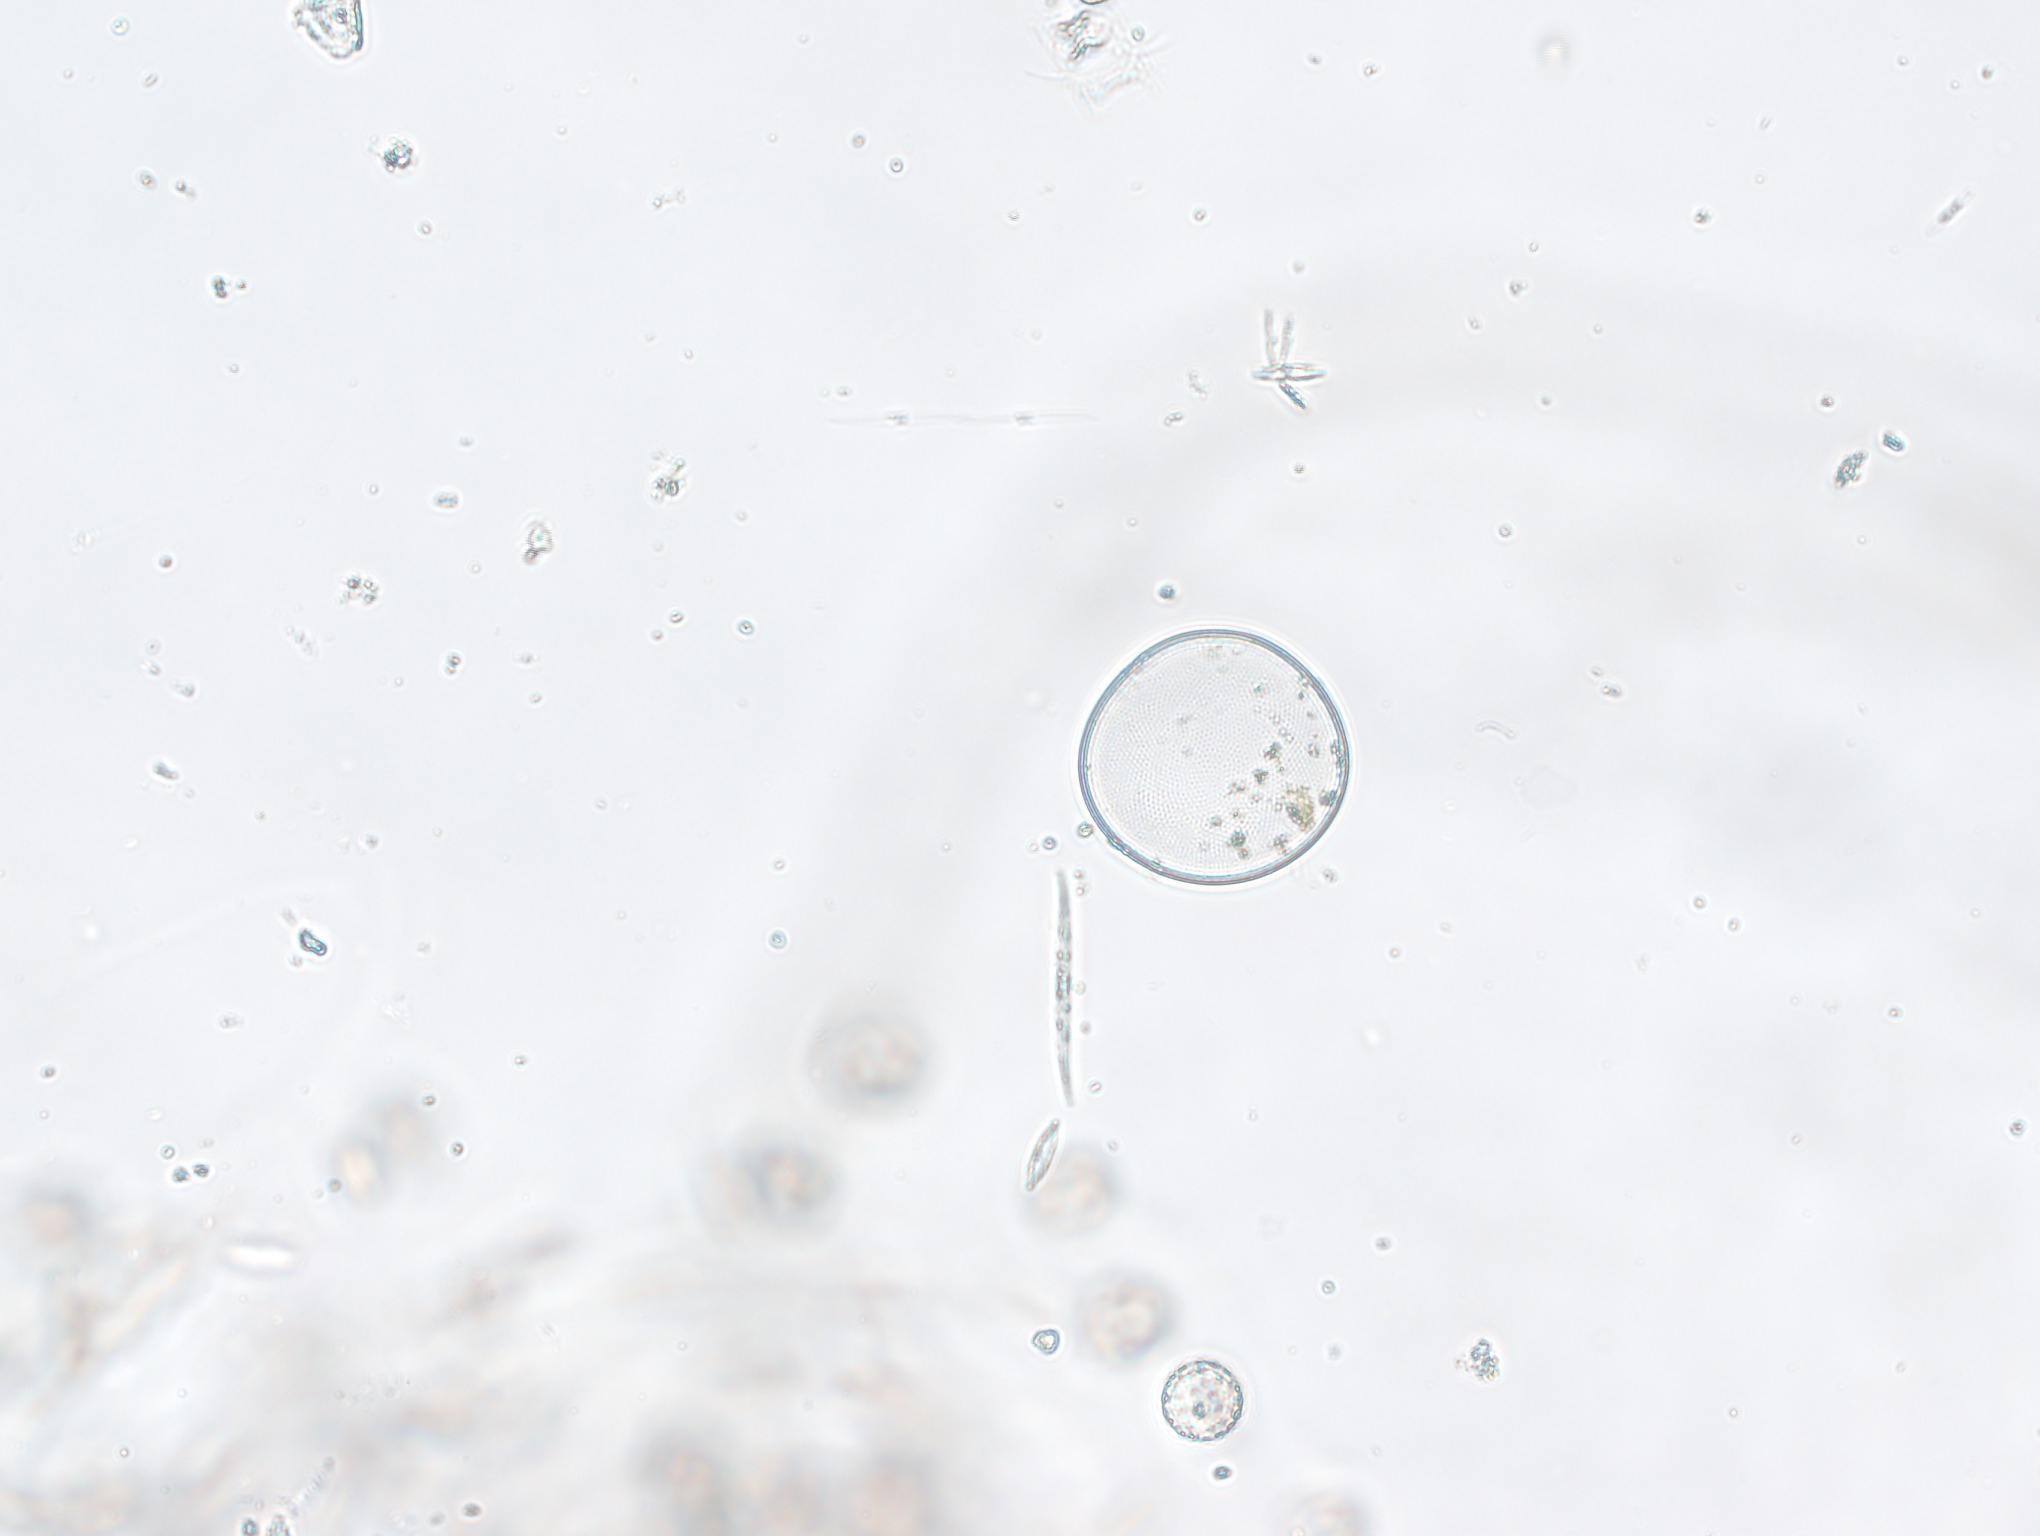coscinodiscus: (1060, 616, 1374, 892)
pleurosigma pelagicum: (1018, 863, 1114, 1112)
